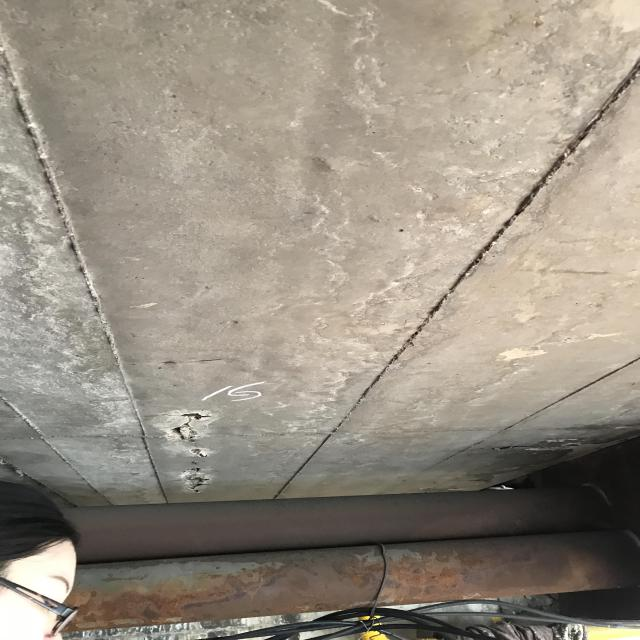concrete spalling: (153, 408, 221, 496)
